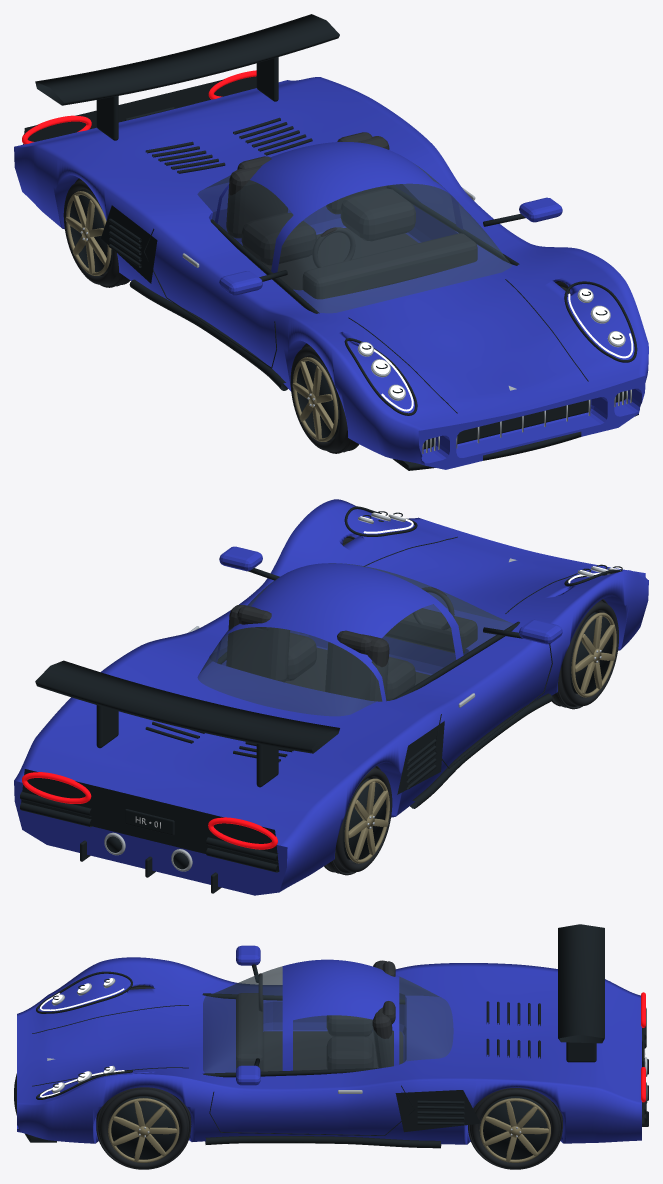
File: hypercar.glb
The picture shows the model from 3 angles, top to bottom: view 1: azimuth 30°, elevation 25°; view 2: azimuth 150°, elevation 25°; view 3: azimuth 270°, elevation 25°; orthographic projection. The views are drawn at different scales.
Visible parts, largest first — view 1: Body surfaces, WheelFrontR surfaces, WheelRearR surfaces; view 2: Body surfaces, WheelFrontR surfaces, WheelRearR surfaces; view 3: Body surfaces, WheelFrontL surfaces, WheelRearL surfaces.
Boxes of the visible parts, x1,y1,x2,y2 form: Body surfaces: (14, 14, 648, 470); WheelFrontR surfaces: (290, 343, 358, 453); WheelRearR surfaces: (63, 178, 130, 287); Body surfaces: (14, 499, 648, 895); WheelFrontR surfaces: (552, 599, 618, 709); WheelRearR surfaces: (324, 766, 392, 875); Body surfaces: (14, 924, 648, 1148); WheelFrontL surfaces: (96, 1087, 191, 1169); WheelRearL surfaces: (468, 1088, 562, 1169).
Size of the model in its own units: 2.29 by 1.17 by 4.61.
